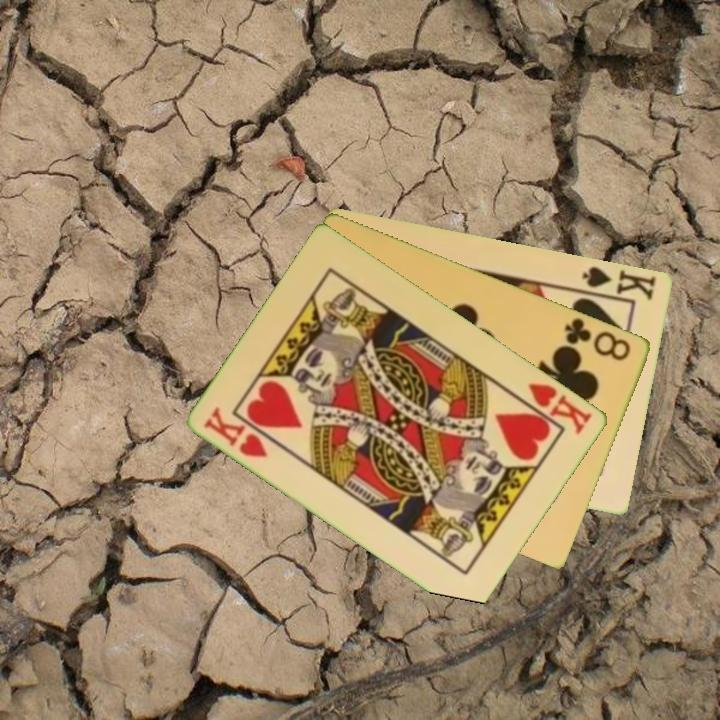8c: (561, 313, 634, 364)
Kh: (513, 379, 596, 437), (200, 402, 272, 461)
Ks: (579, 262, 660, 303)
